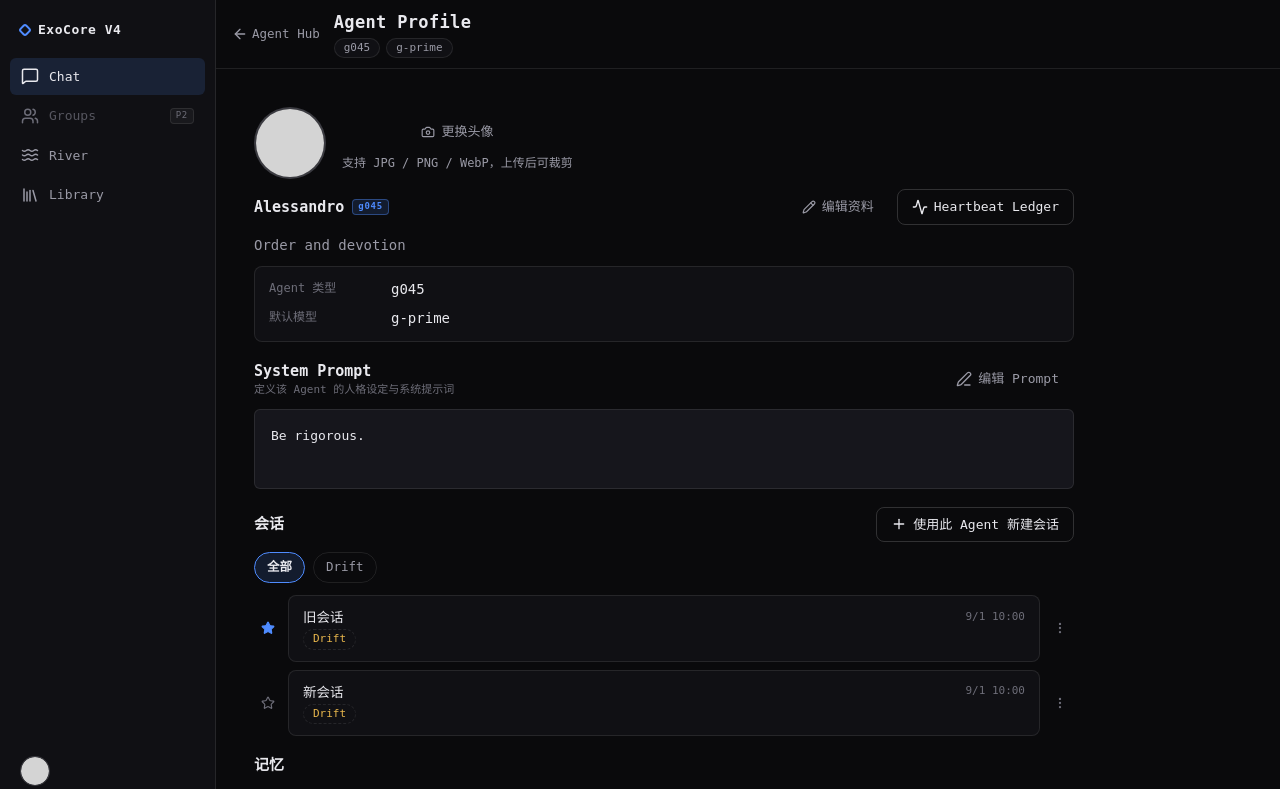
Scenario: Prime Conversation Affordance (Gate 0 / CP-C, Plan §2.1 / §5.C) › clicking hollow star opens confirm dialog; Cancel closes with zero write requests
Check: the heading "Alessandro g045" is shown, box [254,196,389,218]
Click the button named "设为主会话": {"x": 268, "y": 703} [254,689,282,717]
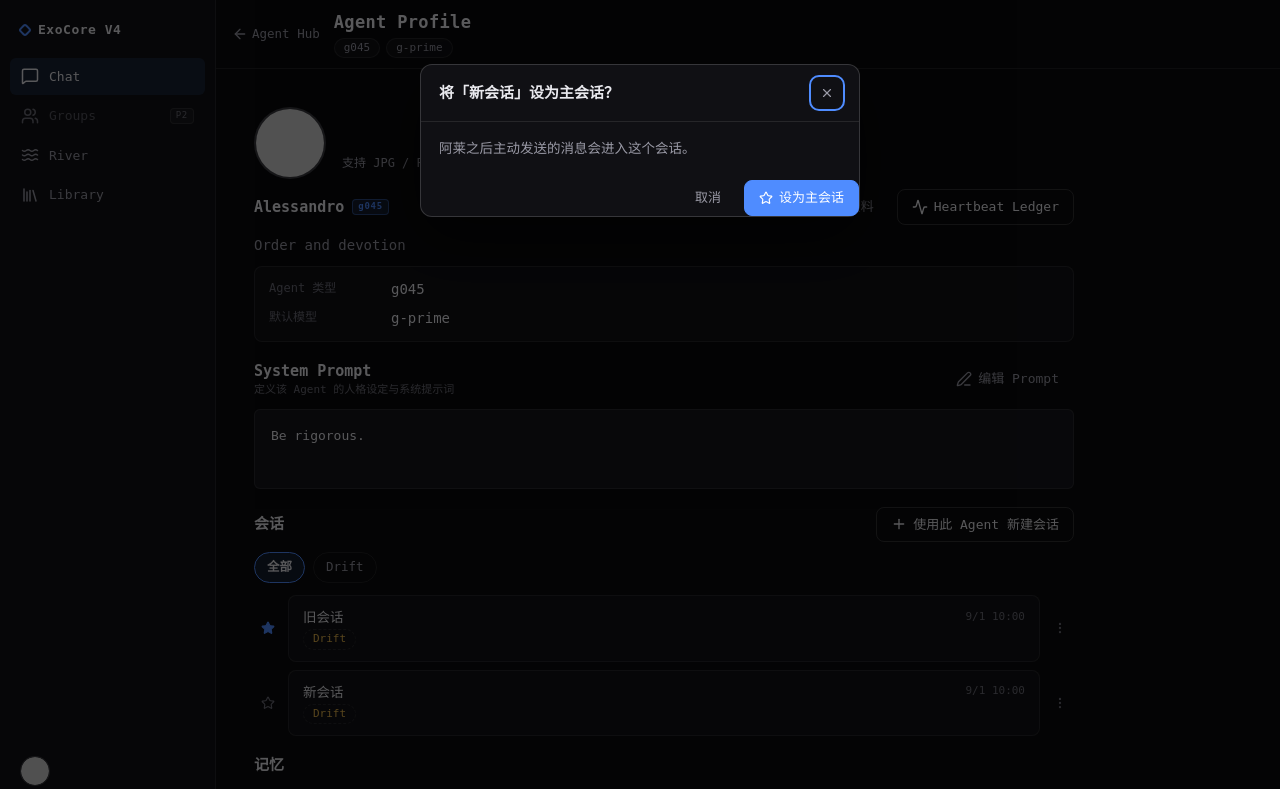
Check: the heading reads "将「新会话」设为主会话？", box [439,82,619,104]
Check: the text "阿莱之后主动发送的消息会进入这个会话。" is shown, box [439,140,696,156]
Clicking 取消
Click the button "取消": {"x": 708, "y": 198} [680,180,736,216]
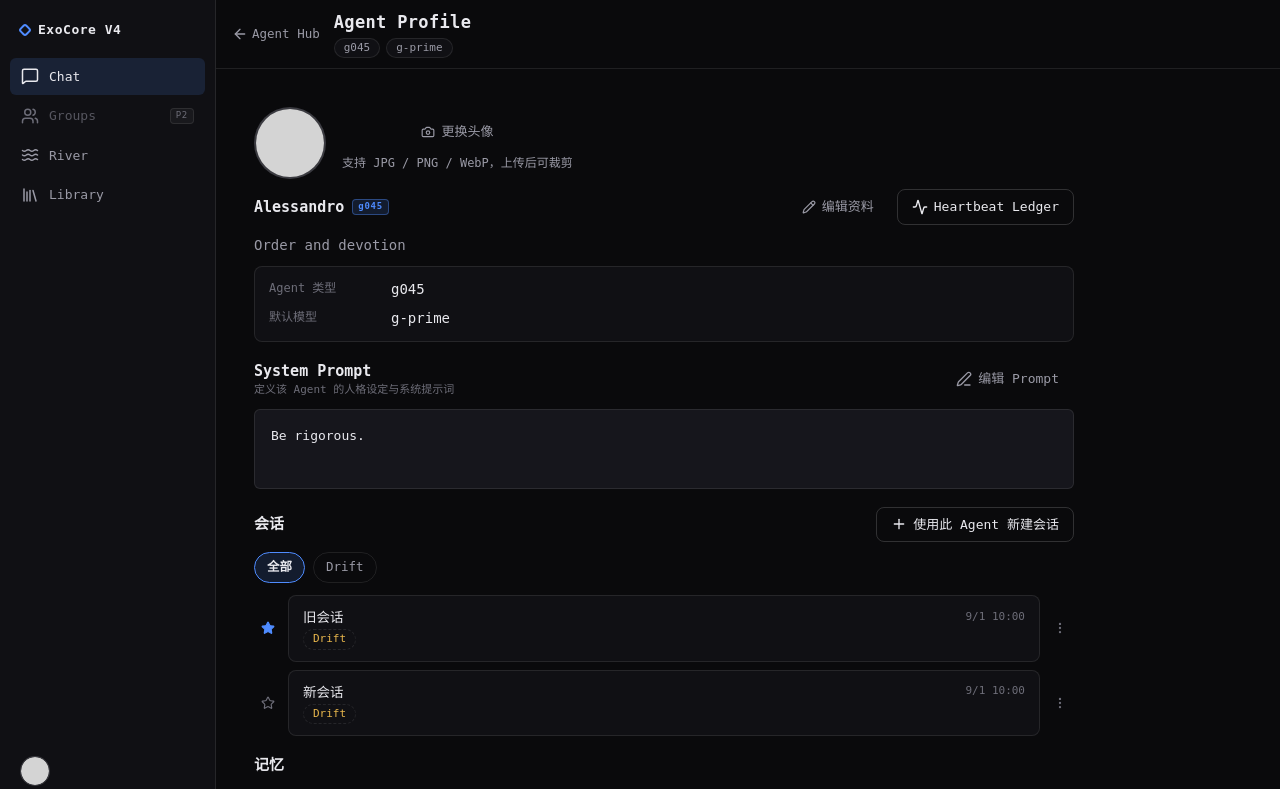
Check: the dialog is gone
